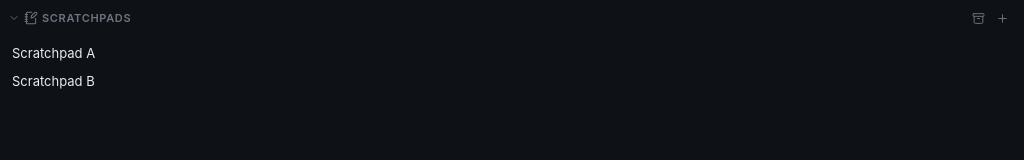
Test: ScratchpadSubsection › multi-select › clears the selection via the clear button
The image size is (1024, 160).
Click the button "Scratchpad A" at x=54, y=53, box [12,44,1016,64]
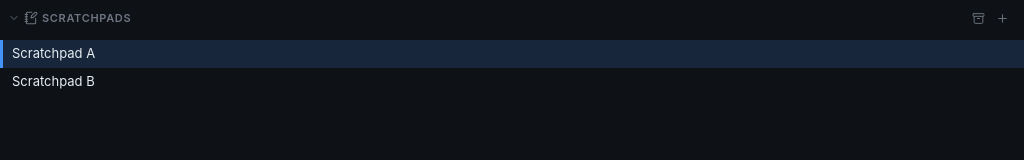
Click the button "Scratchpad B" at x=53, y=80, box [12,72,1016,91]
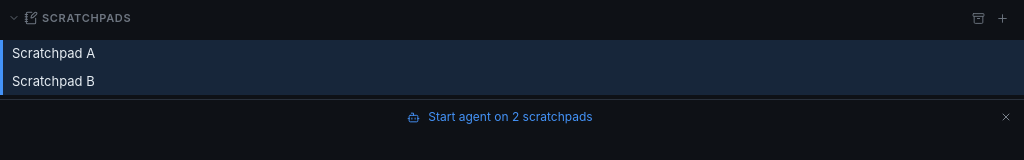
Now the button "Start agent on 2 scratchpads" is shown, box [12,104,988,130]
Click the button named "Clear selection" at x=1006, y=117, box [996,107,1016,127]
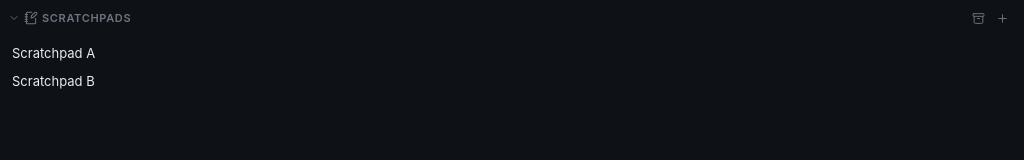
Now the button "Start agent on" is gone
